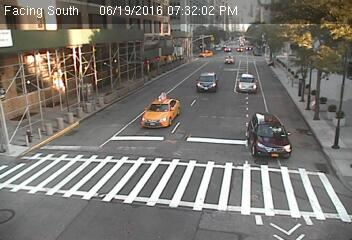neg: (203, 109, 234, 151), (203, 173, 231, 210), (152, 88, 179, 125), (26, 35, 52, 70), (27, 138, 53, 173), (77, 109, 102, 143), (100, 75, 125, 108), (304, 27, 328, 58), (257, 88, 280, 119), (311, 83, 334, 113), (297, 141, 319, 170), (34, 95, 53, 122), (205, 49, 224, 75), (141, 164, 160, 189), (98, 156, 116, 181), (241, 65, 256, 85), (125, 49, 139, 68)
